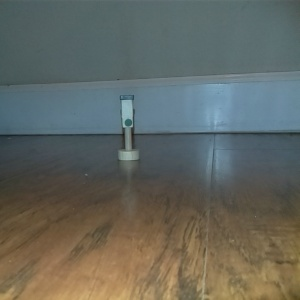traffic light green: (115, 93, 139, 162)
